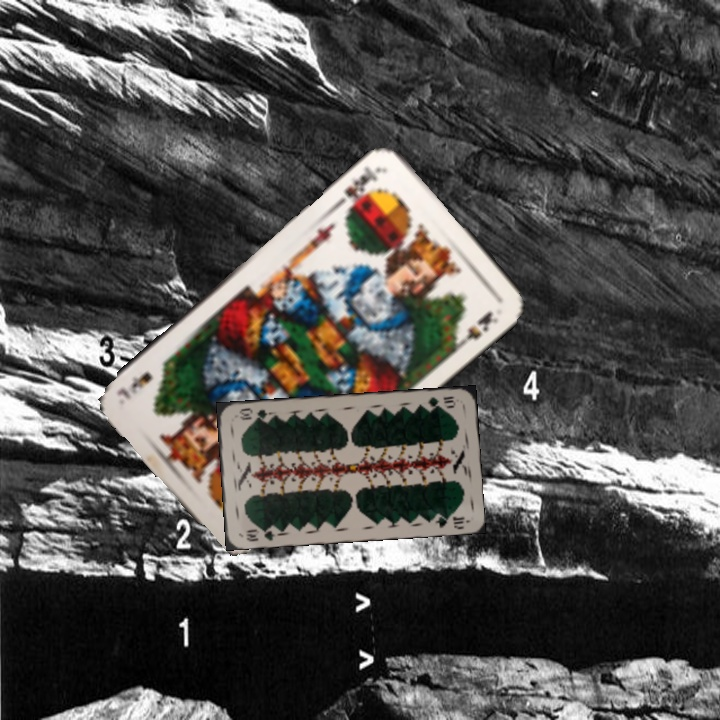G10: (242, 523, 277, 544), (424, 392, 458, 411)
SK: (333, 162, 386, 214)
